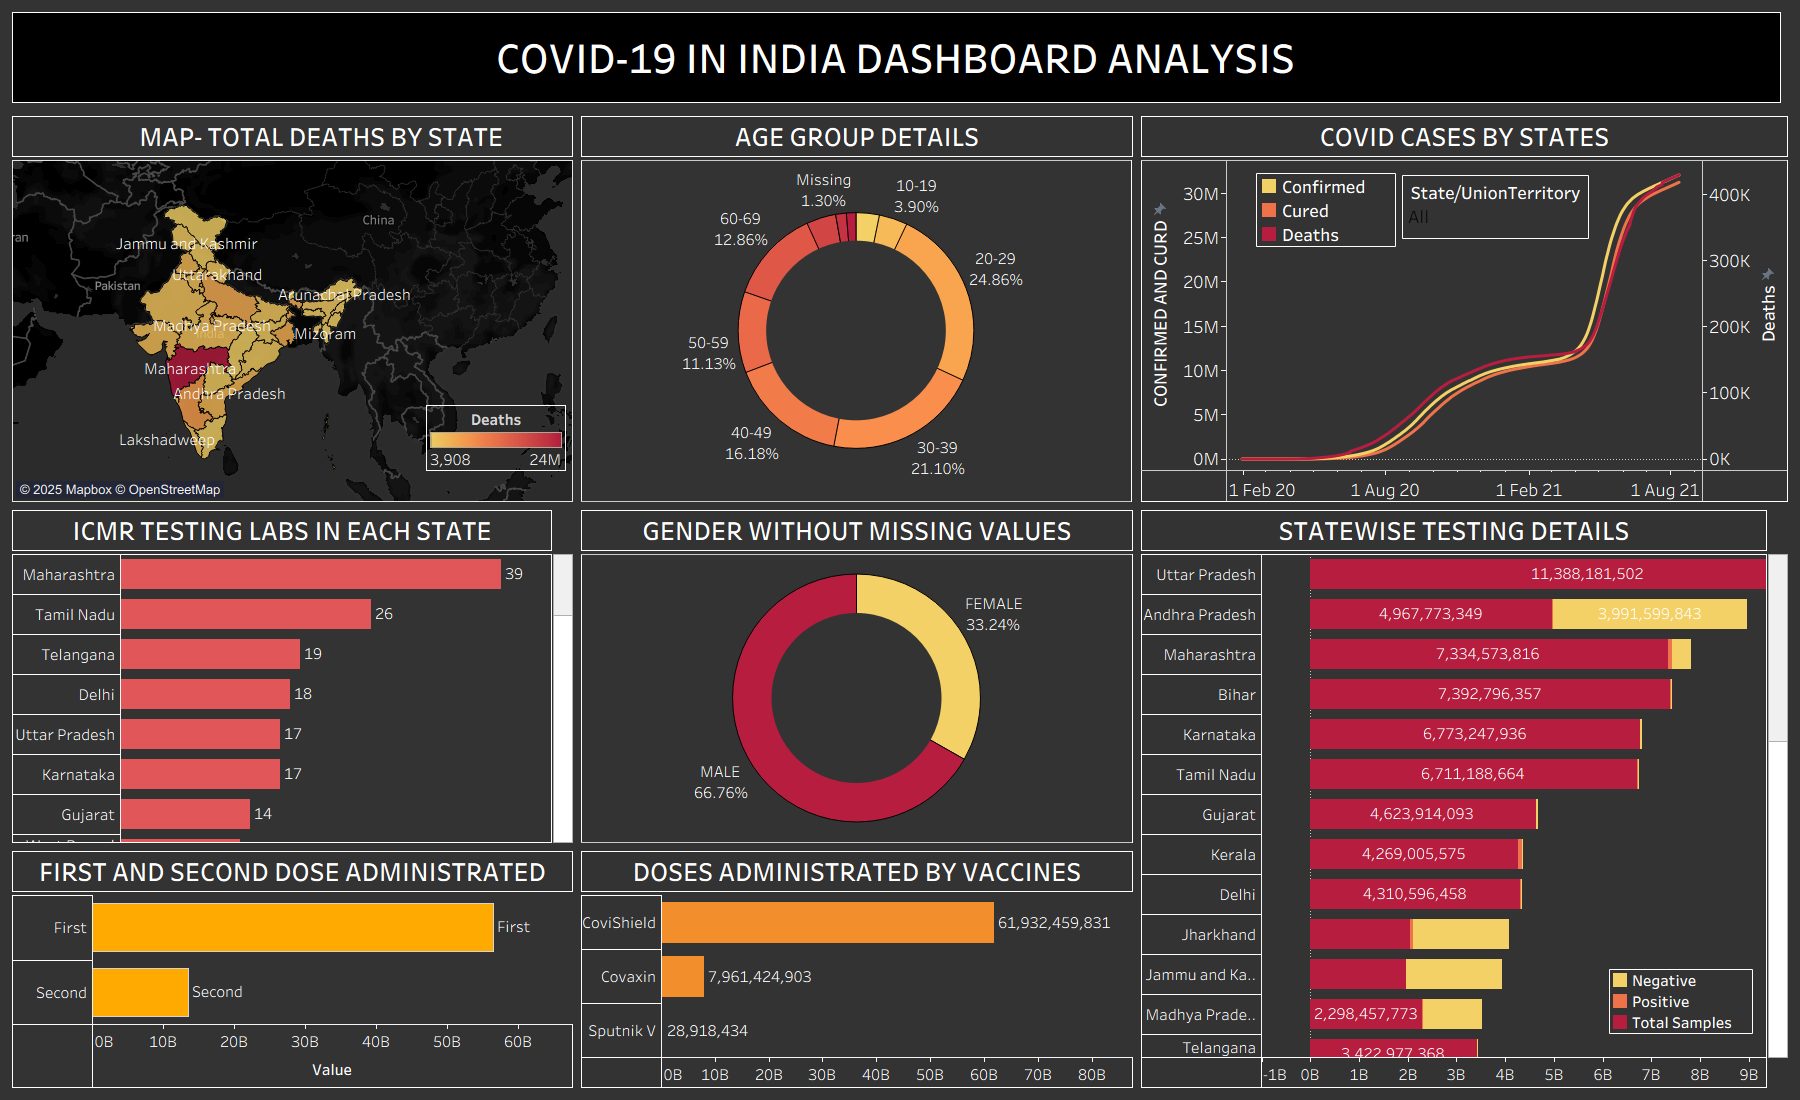

What the dashboard file says about the page in this screenshot:
{"tool":"tableau","page":{"name":"Dashboard 2","canvas":[1800,1100],"ordinal":0},"visuals":[{"type":"worksheet","title":"TITLE","mark":"Automatic","box":[8,8,1784,104]},{"type":"worksheet","title":"MAP- TOTAL DEATHS BY STATE","mark":"Automatic","box":[8,112,569,394]},{"type":"worksheet","title":"AGE GROUP DETAILS","mark":"Pie","rows":["Calculation_748160539390984193","Calculation_748160539391008771"],"box":[577,112,560,394]},{"type":"worksheet","title":"COVID CASES BY STATES","mark":"Automatic","rows":["Deaths"],"cols":["Date"],"box":[1137,112,655,394]},{"type":"legend","title":"COVID CASES BY STATES","param":"[federated.1eumm1x16e7tcb1cs6zdz15l4e9k].[:Measure Names]","box":[1256,173,140,79]},{"type":"filter","title":"COVID CASES BY STATES","param":"[federated.1eumm1x16e7tcb1cs6zdz15l4e9k].[none:State/UnionTerritory:nk]","box":[1402,175,187,64]},{"type":"legend","title":"MAP- TOTAL DEATHS BY STATE","param":"[federated.1eumm1x16e7tcb1cs6zdz15l4e9k].[sum:Deaths:qk]","box":[426,405,140,88]},{"type":"worksheet","title":"ICMR TESTING LABS IN EACH STATE","mark":"Automatic","rows":["state"],"cols":["lab"],"box":[8,506,569,341]},{"type":"worksheet","title":"GENDER WITHOUT MISSING VALUES","mark":"Pie","rows":["Calculation_748160539394838534","Calculation_748160539394854920"],"box":[577,506,560,341]},{"type":"worksheet","title":"STATEWISE TESTING DETAILS","mark":"Automatic","rows":["State"],"box":[1137,506,655,586]},{"type":"worksheet","title":"FIRST AND SECOND DOSE ADMINISTRATED","mark":"Automatic","box":[8,847,569,245]},{"type":"worksheet","title":"DOSES ADMINISTRATED BY VACCINES","mark":"Automatic","box":[577,847,560,245]},{"type":"legend","title":"STATEWISE TESTING DETAILS","param":"[federated.0h5uw5t1544vlr1geim3l02kbrfi].[:Measure Names]","box":[1609,969,144,77]}]}

Visuals, with their boxes in screenshot pixels (x1, y1, x2, y2), scaled from the page's 1800x1100 canvas onto the 1800x1100 screenshot:
"TITLE" worksheet: left=8, top=8, right=1792, bottom=112
"MAP- TOTAL DEATHS BY STATE" worksheet: left=8, top=112, right=577, bottom=506
"AGE GROUP DETAILS" worksheet (Pie marks): left=577, top=112, right=1137, bottom=506
"COVID CASES BY STATES" worksheet: left=1137, top=112, right=1792, bottom=506
"COVID CASES BY STATES" legend: left=1256, top=173, right=1396, bottom=252
"COVID CASES BY STATES" filter: left=1402, top=175, right=1589, bottom=239
"MAP- TOTAL DEATHS BY STATE" legend: left=426, top=405, right=566, bottom=493
"ICMR TESTING LABS IN EACH STATE" worksheet: left=8, top=506, right=577, bottom=847
"GENDER WITHOUT MISSING VALUES" worksheet (Pie marks): left=577, top=506, right=1137, bottom=847
"STATEWISE TESTING DETAILS" worksheet: left=1137, top=506, right=1792, bottom=1092
"FIRST AND SECOND DOSE ADMINISTRATED" worksheet: left=8, top=847, right=577, bottom=1092
"DOSES ADMINISTRATED BY VACCINES" worksheet: left=577, top=847, right=1137, bottom=1092
"STATEWISE TESTING DETAILS" legend: left=1609, top=969, right=1753, bottom=1046
